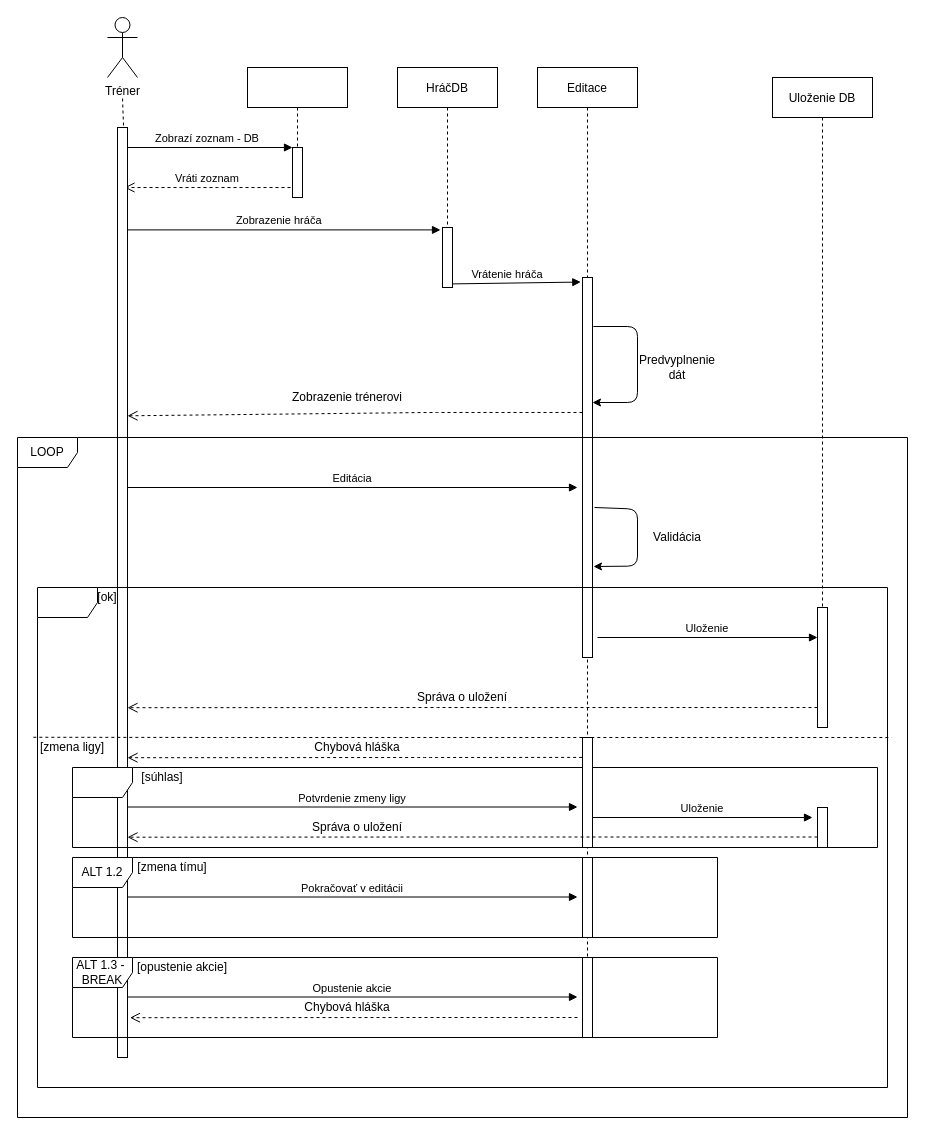
Some shapes in this 925 by 1135 pixel diagram are drawn without their labels. Each missing label, with the box of its shape:
ALT - BREAK: (36, 586, 888, 1088)
ALT 1.1- BREAK: (72, 766, 878, 848)
HráčiDB: (246, 66, 348, 198)
